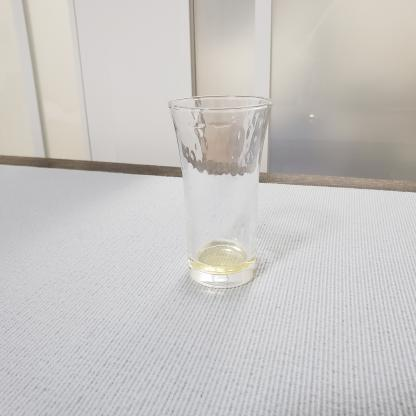glass: (165, 91, 286, 304)
